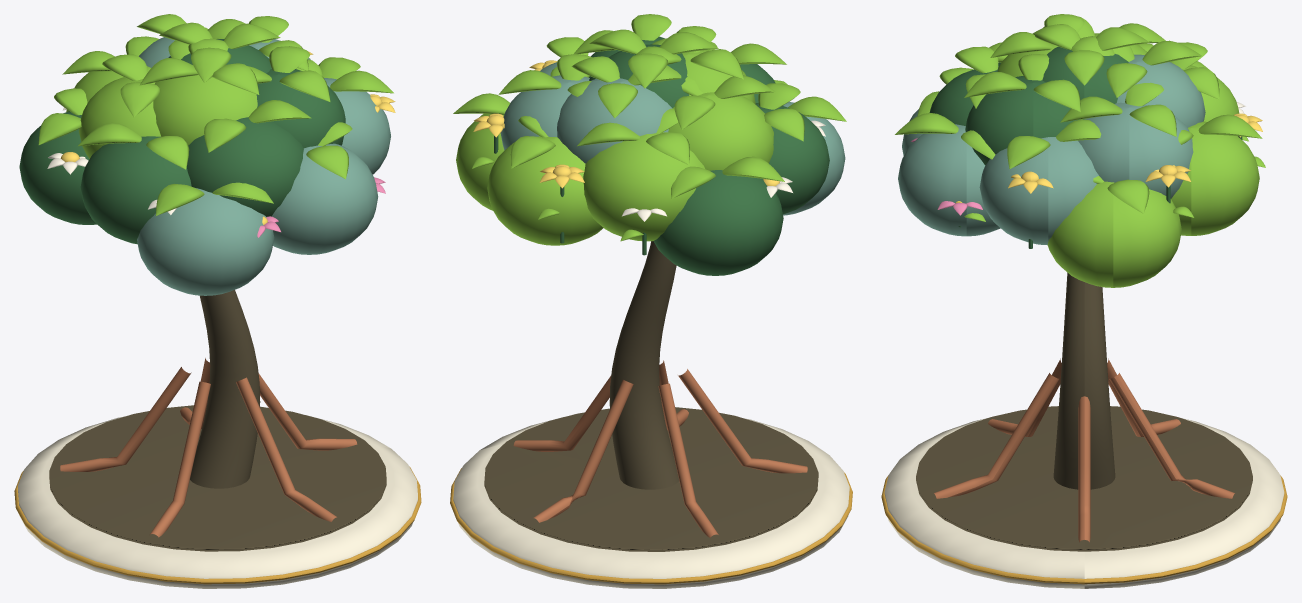
Rendered from motherTree.glb.
3 renders of one model, left to right at view 1: azimuth 30°, elevation 25°; view 2: azimuth 150°, elevation 25°; view 3: azimuth 270°, elevation 25°, orthographic.
Parts seen in each view (by area): view 1: canopy, motherTree; view 2: canopy, motherTree; view 3: canopy, motherTree.
Boxes of the visible parts, left/top/right/bottom form: canopy: left=19, top=14, right=395, bottom=295; motherTree: left=14, top=290, right=421, bottom=588; canopy: left=453, top=14, right=846, bottom=275; motherTree: left=450, top=241, right=852, bottom=588; canopy: left=895, top=14, right=1265, bottom=287; motherTree: left=881, top=272, right=1287, bottom=588.
Bounding box in the file's own units: 1.69 × 2.18 × 1.69.
